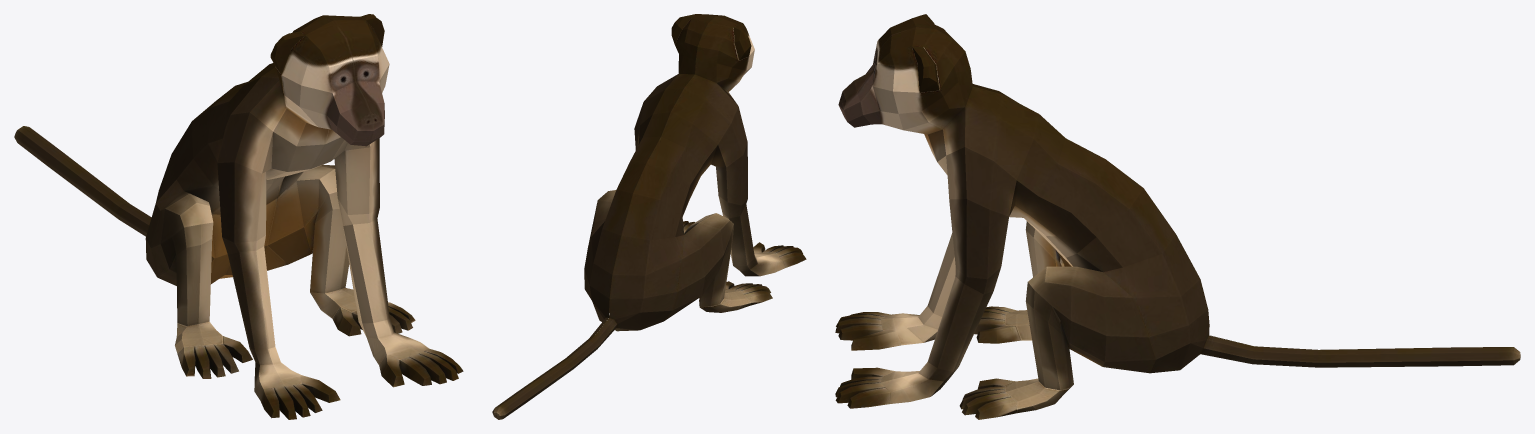
Rendered from mono.glb.
The picture shows the model from 3 angles, left to right: view 1: azimuth 30°, elevation 25°; view 2: azimuth 150°, elevation 25°; view 3: azimuth 270°, elevation 25°; orthographic projection. The views are drawn at different scales.
Visible parts, largest first — view 1: Monkey_mesh; view 2: Monkey_mesh; view 3: Monkey_mesh.
Boxes of the visible parts, x1,y1,x2,y2 form: Monkey_mesh: (14, 14, 463, 419); Monkey_mesh: (492, 14, 806, 419); Monkey_mesh: (835, 14, 1520, 419).
Size of the model in its own units: 3.06 by 4.49 by 8.2.
Materials: 1 (1 with a texture image).
